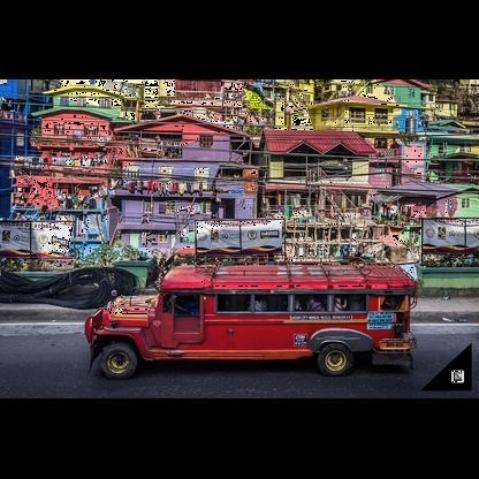jeepney: (58, 239, 425, 380)
